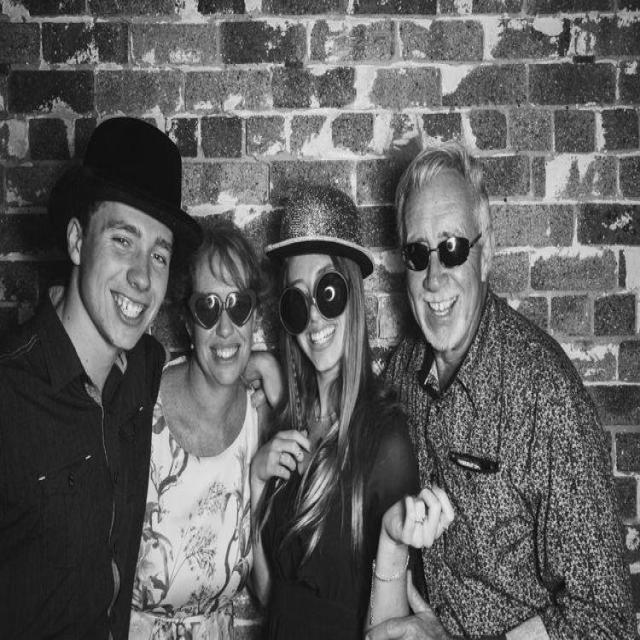person: (372, 143, 638, 640), (2, 139, 196, 640), (258, 153, 405, 640), (129, 205, 290, 637)
